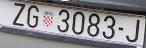-: (117, 26, 125, 31)
0: (72, 11, 85, 35)
3: (103, 15, 115, 40), (58, 9, 70, 33)
8: (87, 14, 100, 37)
G: (27, 5, 39, 28)
J: (126, 19, 140, 43)
Z: (13, 3, 24, 26)
